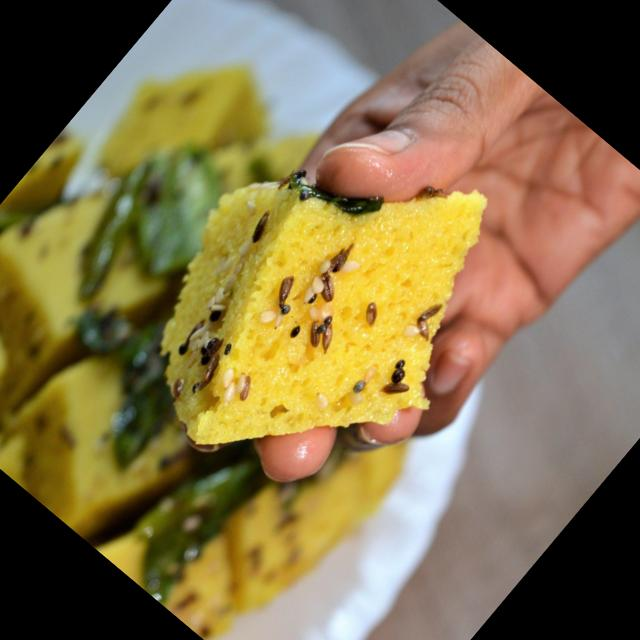dhokla: (0, 0, 558, 640)
